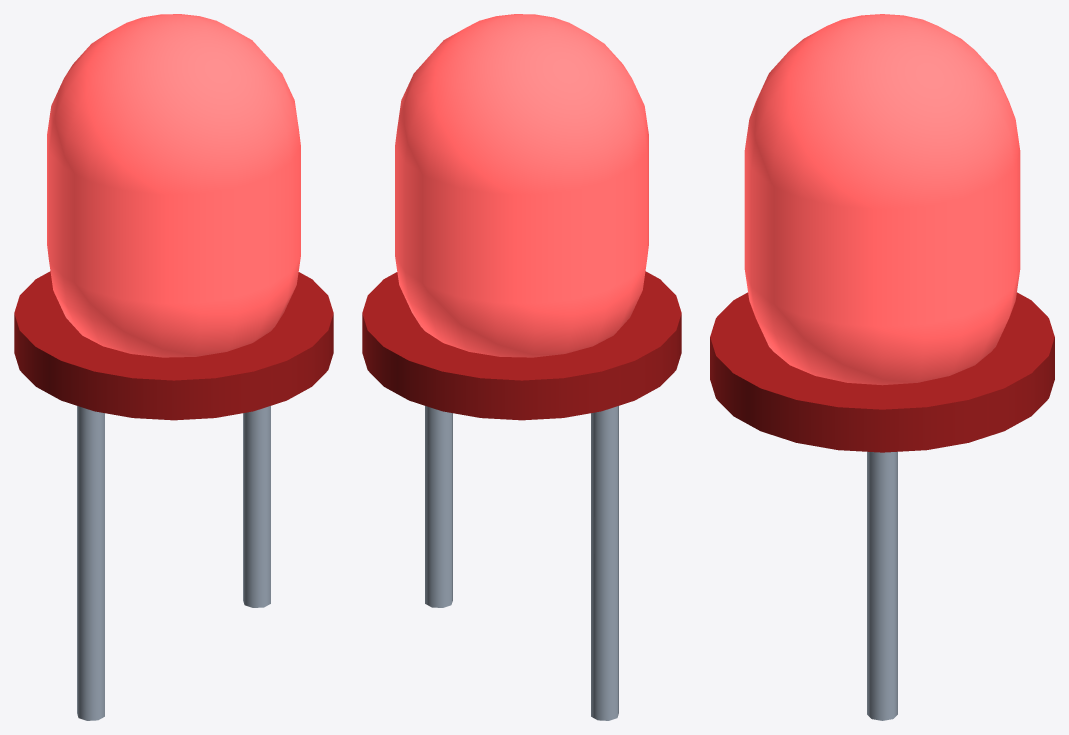
Rendered from led-red.gltf.
3 views of the same model, side by side, from view 1: azimuth 30°, elevation 25°; view 2: azimuth 150°, elevation 25°; view 3: azimuth 270°, elevation 25° (orthographic). The views are drawn at different scales.
Parts seen in each view (by area): view 1: lens, collar, anode, cathode; view 2: lens, collar, anode, cathode; view 3: lens, collar, cathode.
Boxes of the visible parts, x1,y1,x2,y2 form: lens: [47, 14, 300, 357]; collar: [14, 271, 333, 420]; anode: [77, 406, 104, 720]; cathode: [243, 406, 270, 607]; lens: [395, 14, 648, 357]; collar: [362, 271, 681, 420]; anode: [591, 406, 618, 720]; cathode: [425, 406, 452, 607]; lens: [744, 14, 1020, 385]; collar: [710, 292, 1054, 452]; cathode: [867, 451, 897, 720].
Size of the model in its own units: 0.4 by 0.925 by 0.4.
